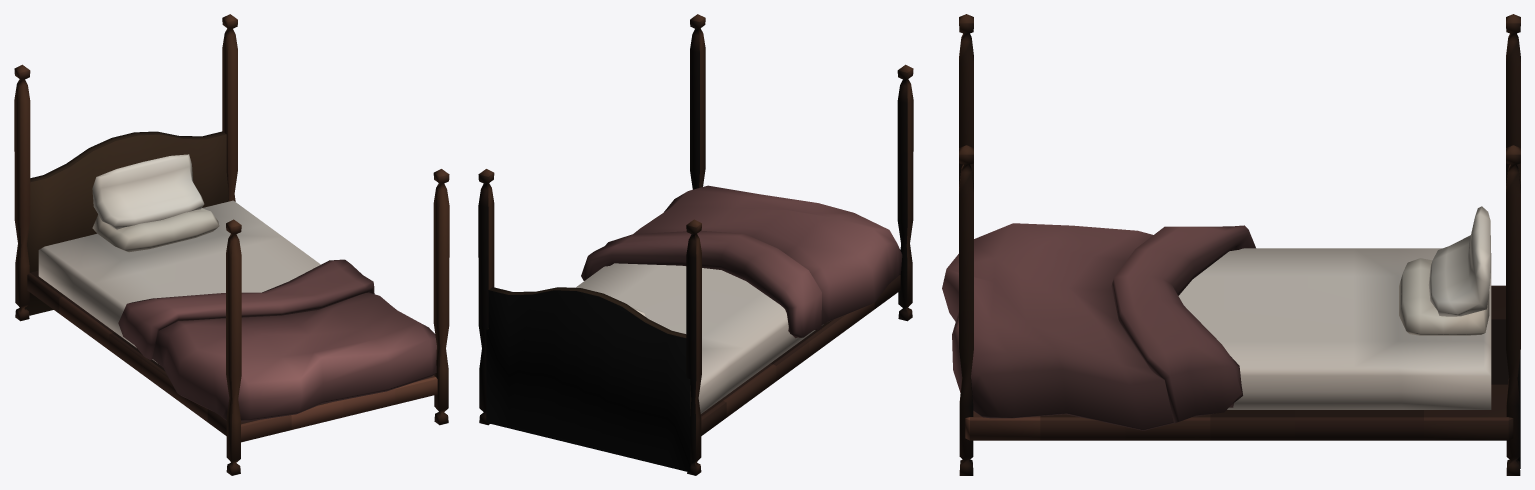
File: furnishings-indoor-fourpostbed_v2.glb
The picture shows the model from 3 angles, left to right: view 1: azimuth 30°, elevation 25°; view 2: azimuth 150°, elevation 25°; view 3: azimuth 270°, elevation 25°; orthographic projection. The views are drawn at different scales.
Visible parts, largest first — view 1: FourPostBed_v2_base, FourPostBed_v2_color; view 2: FourPostBed_v2_base, FourPostBed_v2_color; view 3: FourPostBed_v2_base, FourPostBed_v2_color.
Part boxes in pixels (bbox=[...]): FourPostBed_v2_base: bbox=[14, 14, 449, 475]; FourPostBed_v2_color: bbox=[118, 259, 436, 421]; FourPostBed_v2_base: bbox=[478, 14, 913, 475]; FourPostBed_v2_color: bbox=[581, 185, 902, 338]; FourPostBed_v2_base: bbox=[959, 14, 1520, 475]; FourPostBed_v2_color: bbox=[942, 223, 1255, 430].
Size of the model in its own units: 1.66 by 1.7 by 2.72.
